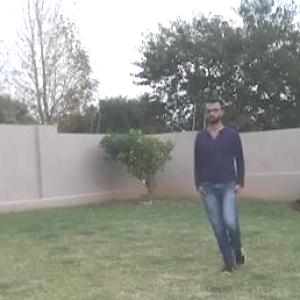follow: (198, 100, 244, 259)
